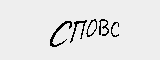В: (98, 19, 107, 39)
О: (86, 19, 98, 37)
П: (71, 19, 87, 42)
С: (49, 16, 71, 49), (110, 17, 121, 38)
